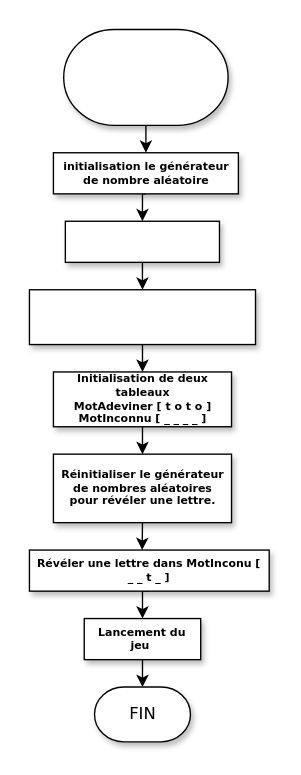
This 301x775 diagram has some shape labels left out. The shapes that lost their labels are listed below. From the top down, each one's centre as x and y in pixels, then its label:
point 146,79: Début function RandomWord()
point 143,243: selectionner un mot aléatoire dans le tableau "TabMots"
point 143,318: Affecter le mot selectionné a la variable "Mot"
